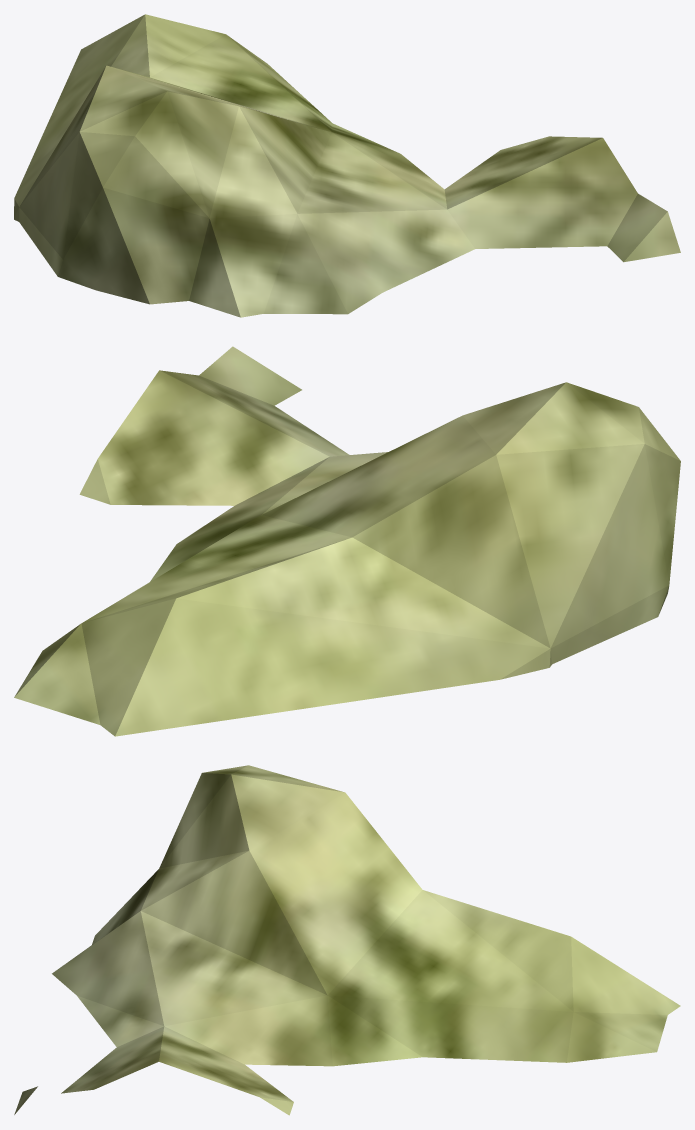
3 views of the same model, one above another, from view 1: azimuth 30°, elevation 25°; view 2: azimuth 150°, elevation 25°; view 3: azimuth 270°, elevation 25° (orthographic). The views are drawn at different scales.
Size of the model in its own units: 0.9233 by 0.3084 by 1.16.
Materials: 1 (1 with a texture image).
